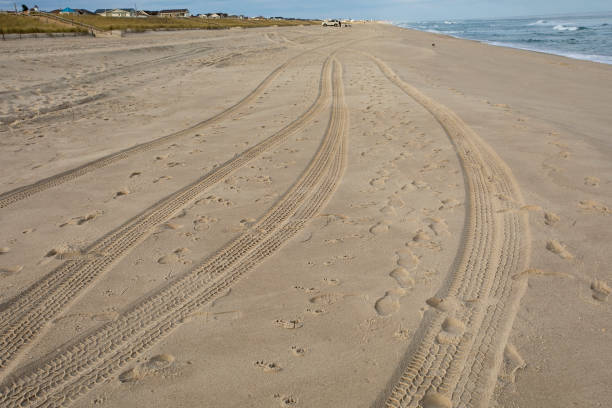vehicle_track: (0, 60, 347, 407), (0, 55, 331, 376), (369, 56, 529, 407), (0, 46, 321, 207), (0, 88, 126, 125)
